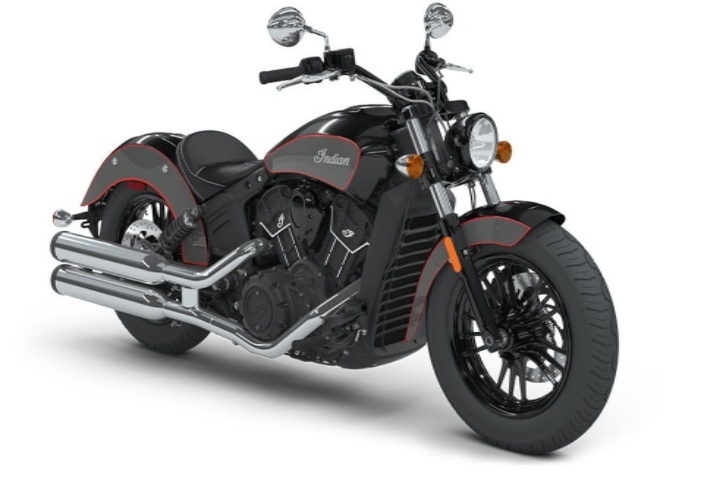motorcycle: (31, 4, 627, 455)
